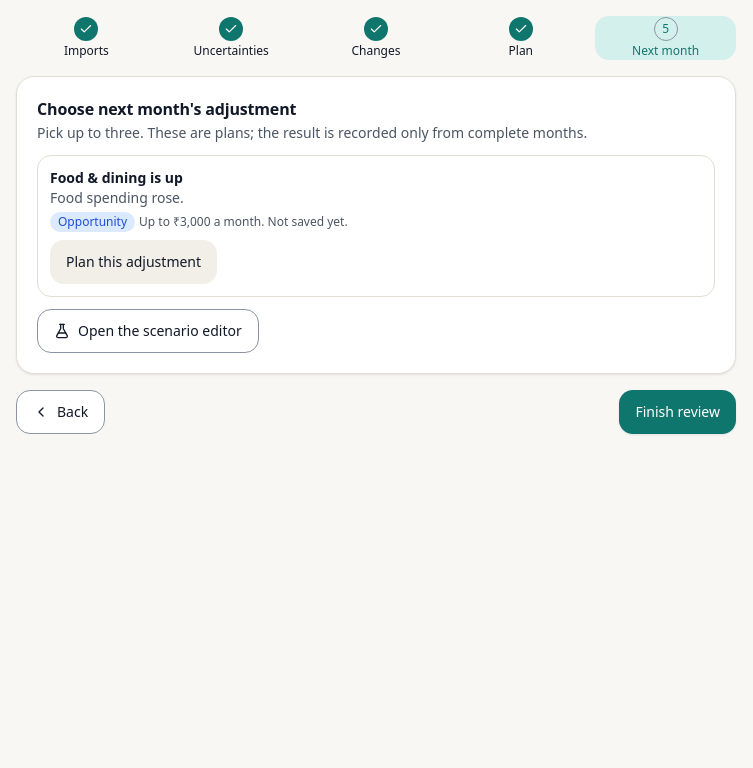
Month-end review › step 5 plans a suggestion, then Finish saves a completed review and shows the summary
Click the button "Plan this adjustment" at (134, 262), box top-left (50, 240), bottom-right (217, 284)
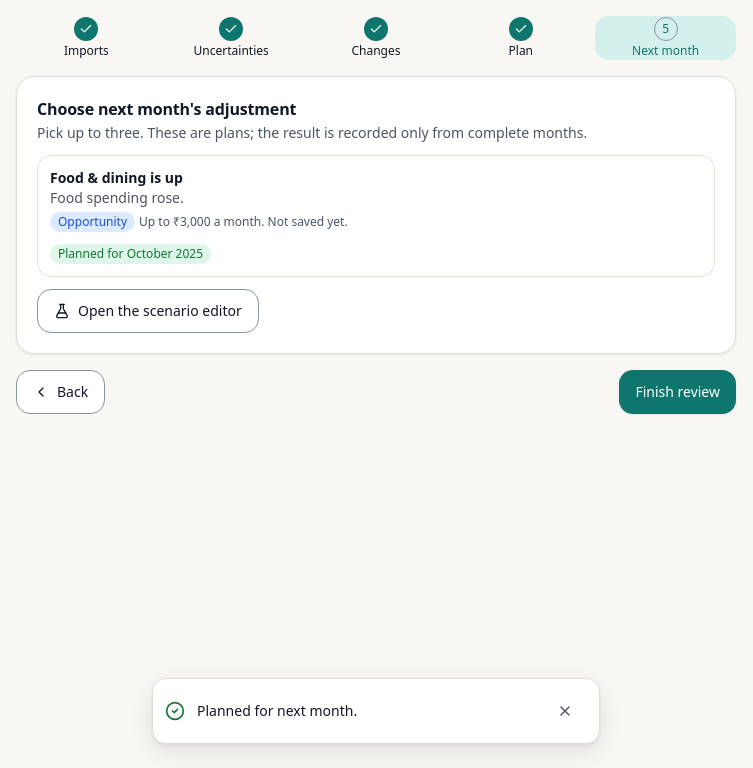
Click the button "Finish review" at (678, 392), box top-left (619, 370), bottom-right (736, 414)
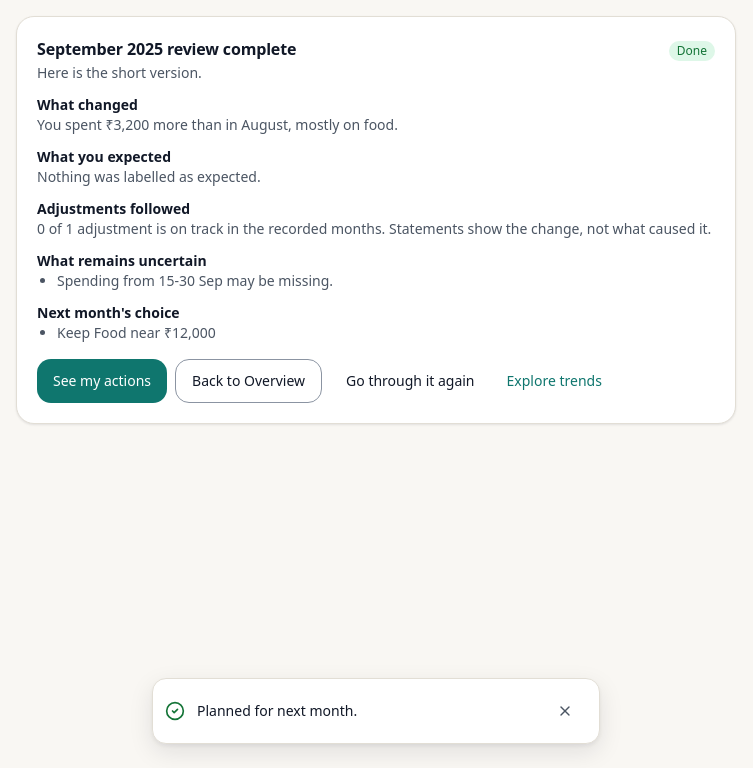
Now the heading "September 2025 review complete" is shown, box top-left (37, 37), bottom-right (296, 61)
Now the text "What changed" is shown, box top-left (37, 95), bottom-right (138, 114)
Now the text "What you expected" is shown, box top-left (37, 147), bottom-right (171, 166)
